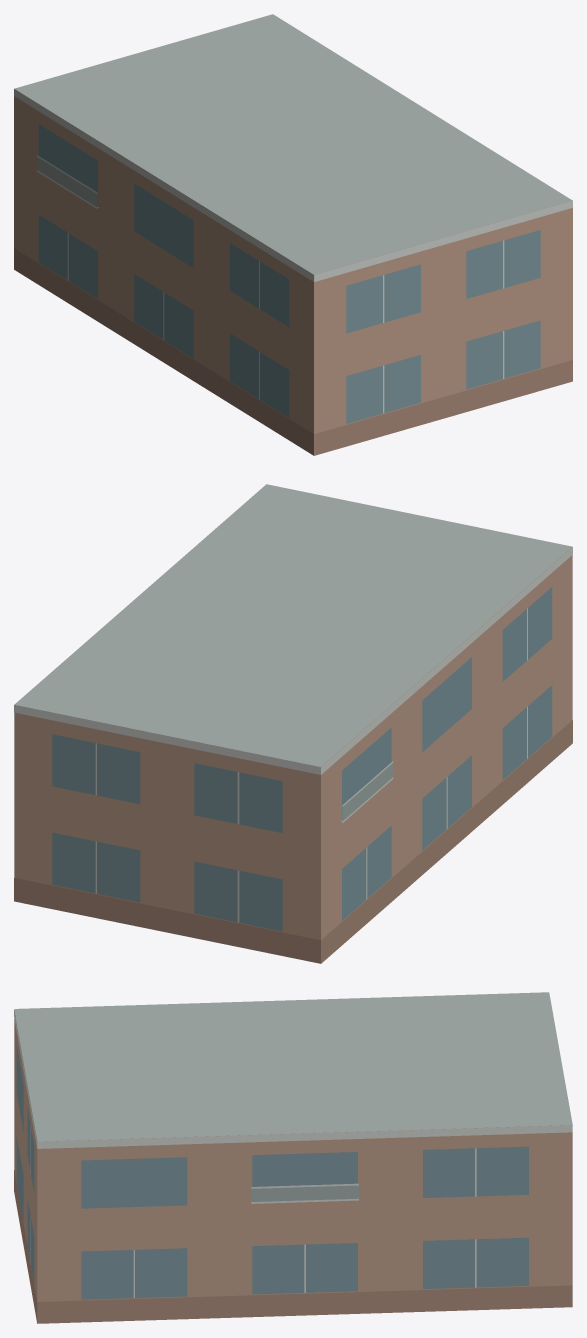
The model's file is survey-upis-32808531.glb.
The picture shows the model from 3 angles, top to bottom: view 1: azimuth 30°, elevation 25°; view 2: azimuth 150°, elevation 25°; view 3: azimuth 270°, elevation 25°; orthographic projection. The views are drawn at different scales.
Parts seen in each view (by area): view 1: survey-upis-32808531.tmp; view 2: survey-upis-32808531.tmp; view 3: survey-upis-32808531.tmp.
Boxes of the visible parts, box(x1,y1,x2,y2) form: survey-upis-32808531.tmp: box(14, 14, 572, 455); survey-upis-32808531.tmp: box(14, 484, 572, 963); survey-upis-32808531.tmp: box(14, 992, 572, 1323).
Size of the model in its own units: 10.75 by 6.1 by 16.98.
